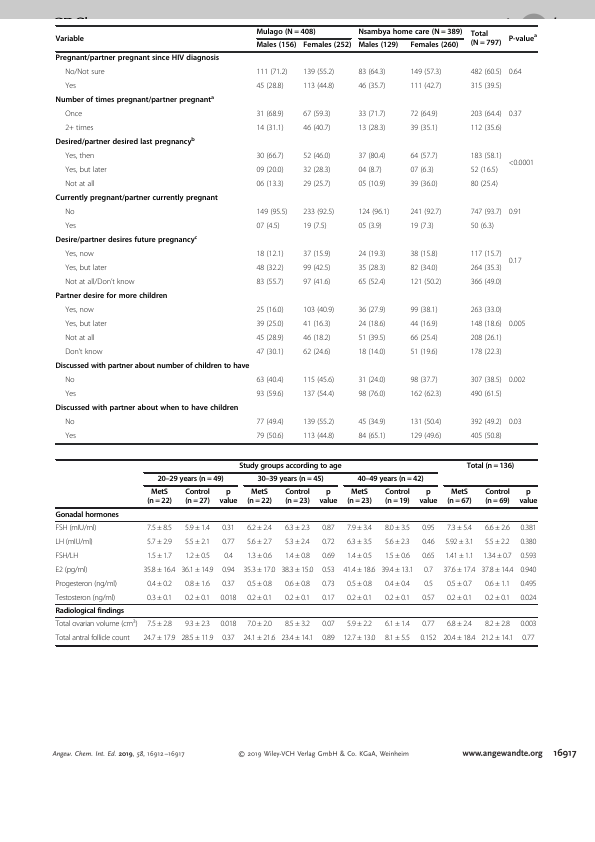borderless: (54, 24, 537, 443), (54, 458, 537, 645)
cell: (55, 362, 250, 372), (55, 404, 239, 414), (55, 95, 215, 106), (55, 54, 220, 64), (55, 194, 219, 204), (55, 235, 198, 246), (55, 137, 196, 148), (55, 292, 168, 302), (357, 28, 463, 37), (238, 462, 342, 471), (55, 618, 138, 629), (256, 475, 325, 485), (55, 634, 131, 643), (156, 475, 224, 485), (356, 475, 424, 485), (55, 510, 120, 520), (64, 278, 136, 287), (55, 579, 118, 589), (55, 607, 125, 616), (55, 593, 116, 603), (470, 30, 502, 48), (255, 28, 316, 37), (146, 488, 173, 507), (184, 488, 211, 507), (246, 488, 273, 507), (284, 488, 311, 507), (346, 488, 373, 507), (384, 488, 411, 507), (446, 488, 473, 507), (484, 488, 511, 507), (302, 41, 352, 51), (409, 41, 459, 51), (466, 462, 515, 471), (255, 41, 297, 51), (357, 41, 399, 51), (55, 523, 97, 533), (64, 166, 108, 175), (64, 264, 108, 273), (64, 320, 108, 329), (55, 537, 94, 547), (318, 488, 338, 507), (418, 488, 438, 507), (518, 488, 538, 507), (64, 68, 105, 77), (219, 488, 238, 507), (64, 348, 103, 357), (142, 565, 176, 575), (180, 565, 214, 575), (242, 565, 276, 575), (280, 565, 314, 575), (342, 565, 376, 575), (380, 565, 414, 575), (442, 565, 476, 575), (480, 565, 514, 575), (508, 33, 538, 44), (55, 565, 88, 575), (444, 551, 475, 561), (482, 551, 513, 561), (142, 634, 176, 643), (180, 634, 214, 643), (242, 634, 276, 643), (280, 634, 314, 643), (342, 634, 376, 643), (442, 634, 476, 643), (480, 634, 514, 643), (55, 34, 85, 44), (444, 537, 474, 547), (255, 68, 288, 77), (302, 68, 335, 77), (409, 68, 442, 77), (302, 82, 335, 91), (409, 82, 442, 91), (255, 208, 288, 217), (302, 208, 335, 217), (357, 208, 390, 217), (409, 208, 442, 217), (409, 278, 442, 287), (302, 306, 335, 315), (302, 376, 335, 385), (302, 390, 335, 399), (409, 390, 442, 399), (302, 418, 335, 427), (409, 418, 442, 427), (302, 432, 335, 441), (409, 432, 442, 441), (470, 68, 502, 77), (470, 82, 502, 91), (470, 110, 502, 119), (470, 124, 502, 133), (470, 152, 502, 161), (470, 208, 502, 217), (470, 250, 502, 259), (470, 264, 502, 273), (470, 278, 502, 287), (470, 306, 502, 315), (470, 320, 502, 329), (470, 334, 502, 343), (470, 348, 502, 357), (470, 376, 502, 385), (470, 390, 502, 399), (470, 418, 502, 427), (470, 432, 502, 441), (64, 152, 95, 161), (64, 180, 95, 189), (64, 250, 95, 259), (64, 306, 95, 315), (64, 334, 95, 343), (64, 124, 94, 133), (146, 523, 173, 533), (184, 523, 211, 533), (246, 523, 273, 533), (284, 523, 311, 533), (346, 523, 373, 533), (384, 523, 411, 533), (446, 523, 473, 533), (484, 523, 511, 533), (146, 537, 173, 547), (184, 537, 211, 547), (246, 537, 273, 547), (284, 537, 311, 547), (346, 537, 373, 547), (384, 537, 411, 547), (484, 537, 511, 547), (146, 551, 173, 561), (184, 551, 211, 561), (246, 551, 273, 561), (284, 551, 311, 561), (346, 551, 373, 561), (384, 551, 411, 561), (146, 579, 173, 589), (184, 579, 211, 589), (246, 579, 273, 589), (284, 579, 311, 589), (346, 579, 373, 589), (384, 579, 411, 589), (446, 579, 473, 589), (484, 579, 511, 589), (146, 593, 173, 603), (184, 593, 211, 603), (246, 593, 273, 603), (284, 593, 311, 603), (346, 593, 373, 603), (384, 593, 411, 603), (446, 593, 473, 603), (484, 593, 511, 603), (357, 68, 386, 77), (255, 82, 284, 91), (357, 82, 386, 91), (255, 110, 284, 119), (302, 110, 331, 119), (357, 110, 386, 119), (409, 110, 438, 119), (255, 124, 284, 133), (302, 124, 331, 133), (357, 124, 386, 133), (409, 124, 438, 133), (255, 152, 284, 161), (302, 152, 331, 161), (357, 152, 386, 161), (409, 152, 438, 161), (255, 166, 284, 175), (302, 166, 331, 175), (470, 166, 499, 175), (255, 180, 284, 189), (302, 180, 331, 189), (357, 180, 386, 189), (409, 180, 438, 189), (470, 180, 499, 189), (255, 250, 284, 259), (302, 250, 331, 259), (357, 250, 386, 259), (409, 250, 438, 259), (255, 264, 284, 273), (302, 264, 331, 273), (357, 264, 386, 273), (409, 264, 438, 273), (255, 278, 284, 287), (302, 278, 331, 287), (357, 278, 386, 287), (255, 306, 284, 315), (357, 306, 386, 315), (409, 306, 438, 315), (255, 320, 284, 329), (302, 320, 331, 329), (357, 320, 386, 329), (409, 320, 438, 329), (255, 334, 284, 343), (302, 334, 331, 343), (357, 334, 386, 343), (409, 334, 438, 343), (255, 348, 284, 357), (302, 348, 331, 357), (357, 348, 386, 357), (409, 348, 438, 357), (255, 376, 284, 385), (357, 376, 386, 385), (409, 376, 438, 385), (255, 390, 284, 399), (357, 390, 386, 399), (255, 418, 284, 427), (357, 418, 386, 427), (255, 432, 284, 441), (357, 432, 386, 441), (508, 159, 535, 168), (146, 620, 173, 629), (184, 620, 211, 629), (246, 620, 273, 629), (284, 620, 311, 629), (346, 620, 373, 629), (384, 620, 411, 629), (446, 620, 473, 629), (484, 620, 511, 629), (384, 634, 411, 643), (55, 551, 79, 561), (357, 166, 383, 175), (409, 166, 435, 175), (255, 222, 281, 231), (357, 222, 383, 231), (409, 222, 435, 231), (302, 222, 327, 231), (470, 222, 495, 231), (519, 523, 537, 533), (519, 537, 537, 547), (519, 551, 537, 561), (519, 565, 537, 575), (519, 579, 537, 589), (219, 593, 237, 603), (519, 593, 537, 603), (64, 110, 83, 119), (508, 320, 526, 329), (508, 376, 526, 385), (219, 620, 237, 629), (519, 620, 537, 629), (419, 634, 437, 643), (221, 523, 236, 533), (321, 523, 336, 533), (321, 551, 336, 561), (421, 551, 436, 561), (321, 565, 336, 575), (221, 579, 236, 589), (321, 579, 336, 589), (321, 593, 336, 603), (421, 523, 435, 533), (221, 537, 235, 547), (321, 537, 335, 547), (421, 537, 435, 547), (221, 565, 235, 575), (421, 593, 435, 603), (321, 620, 336, 629), (321, 634, 336, 643), (508, 68, 522, 77), (508, 110, 522, 119), (508, 208, 522, 217), (508, 257, 522, 266), (508, 418, 522, 427), (421, 620, 435, 629), (221, 634, 235, 643), (521, 634, 535, 643), (64, 82, 77, 91), (64, 222, 77, 231), (64, 390, 77, 399), (64, 432, 77, 441), (223, 551, 234, 561), (423, 565, 434, 575), (423, 579, 434, 589), (64, 208, 75, 217), (64, 376, 75, 385), (64, 418, 75, 427)
